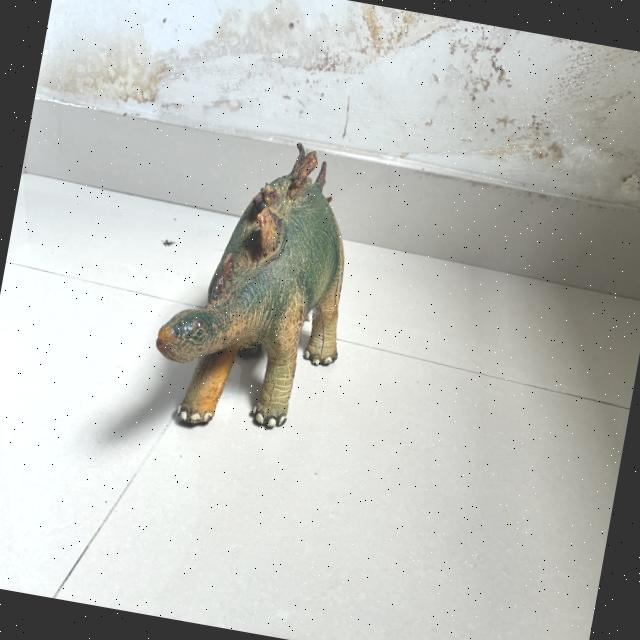dinosaur: (156, 142, 344, 428)
